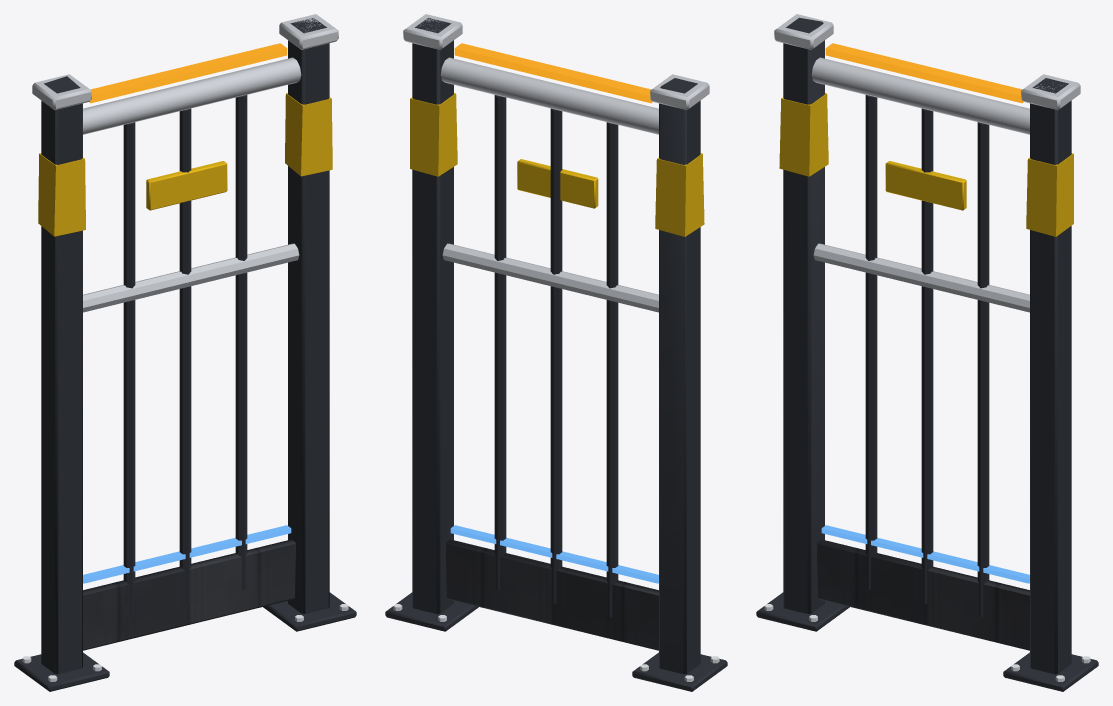
File: arch_stair_guard.glb
The picture shows the model from 3 angles, left to right: view 1: azimuth 30°, elevation 25°; view 2: azimuth 150°, elevation 25°; view 3: azimuth 330°, elevation 25°; orthographic projection.
Parts seen in each view (by area): view 1: arch_stair_guard; view 2: arch_stair_guard; view 3: arch_stair_guard.
Boxes of the visible parts, <box> form: arch_stair_guard: <box>14,14,356,691</box>; arch_stair_guard: <box>385,14,727,691</box>; arch_stair_guard: <box>756,14,1098,691</box>.
Bounding box in the file's own units: 0.55 × 1 × 0.11.
Materials: 7 (1 with a texture image).
